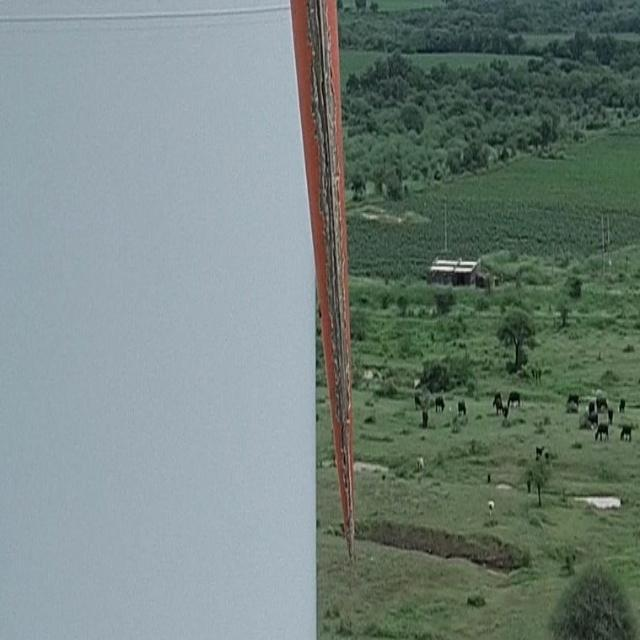EROSION: (300, 1, 356, 509)
